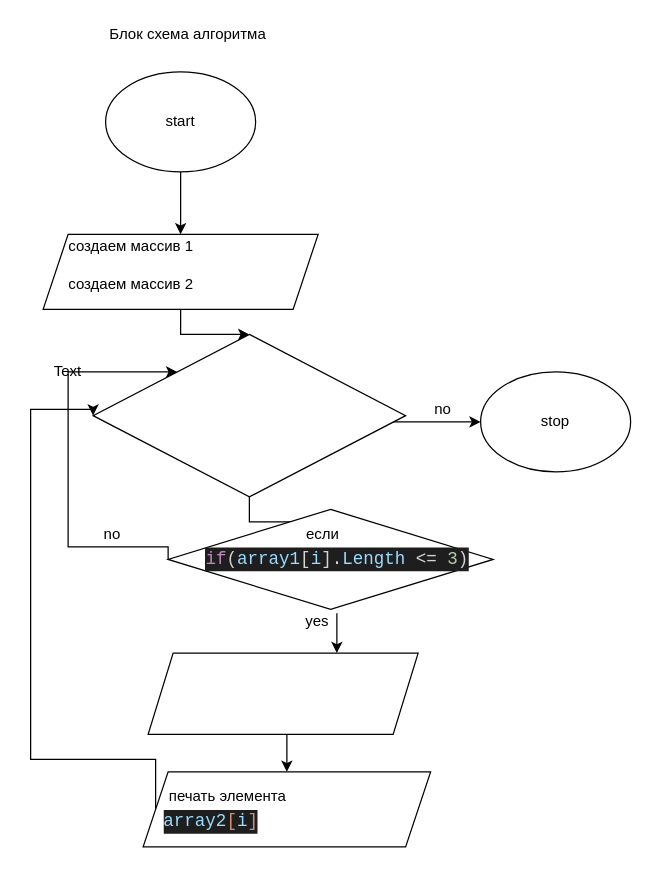
Some shapes in this 653 by 869 pixel diagram are drawn without their labels. The centre of each missing label's shape, as x and y in pixels:
"array2 [ i ] = array1 [ i ];" goes at (282,693).
"for ( int i = 0 ; i < array1 . Length ; i ++)" goes at (249,415).
